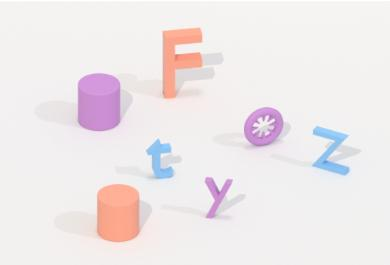0-KhoiTru: (93, 182, 145, 245), (75, 70, 123, 134)
0-TronLo: (242, 104, 288, 150)
F: (157, 24, 207, 103)
Z: (310, 122, 353, 178)
t: (143, 137, 177, 183)
y: (203, 174, 236, 220)
